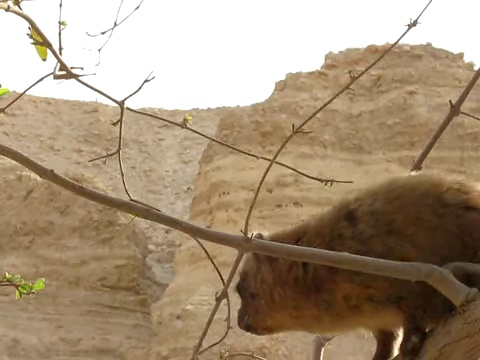Rock Hyrex: (235, 171, 480, 359)
